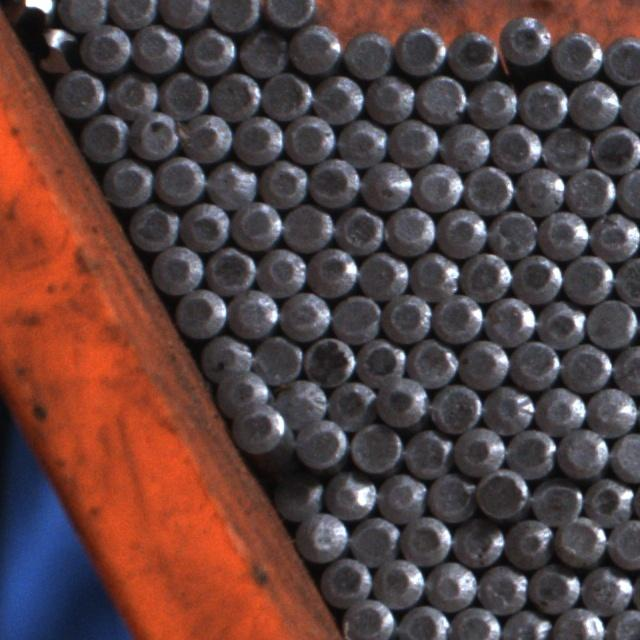tool: (230, 402, 286, 456), (498, 12, 550, 68), (295, 417, 348, 470), (429, 382, 482, 434), (551, 28, 603, 81), (348, 420, 401, 472), (554, 516, 606, 568), (289, 23, 341, 75), (476, 468, 528, 520), (174, 286, 226, 338), (447, 30, 498, 82), (556, 426, 608, 477), (452, 516, 504, 567), (526, 564, 579, 614), (215, 364, 269, 413), (505, 426, 556, 477), (297, 510, 348, 561), (400, 514, 450, 566), (259, 70, 311, 120), (452, 425, 504, 475), (270, 470, 322, 520), (343, 27, 392, 80), (569, 79, 619, 130), (79, 22, 130, 72), (180, 111, 230, 162), (436, 207, 486, 258), (373, 557, 423, 608), (127, 201, 178, 251), (53, 68, 103, 119), (394, 25, 444, 76), (376, 378, 427, 428), (582, 474, 633, 524), (324, 470, 376, 519), (150, 245, 202, 294), (201, 333, 253, 382), (468, 77, 518, 127), (518, 78, 568, 128), (463, 163, 513, 213), (426, 471, 476, 521), (384, 205, 434, 255), (154, 156, 204, 206), (334, 204, 384, 254), (580, 566, 630, 616), (314, 73, 364, 123), (484, 384, 534, 434), (458, 338, 508, 388), (407, 338, 457, 388), (252, 334, 302, 384), (409, 250, 459, 300), (77, 112, 127, 162), (102, 158, 152, 208), (277, 376, 327, 426), (184, 24, 233, 75), (477, 564, 526, 615), (402, 427, 451, 478), (132, 22, 181, 73), (130, 109, 179, 160), (320, 554, 369, 605), (416, 74, 466, 123), (562, 253, 611, 303), (349, 515, 398, 565), (180, 200, 229, 250), (231, 199, 280, 249), (332, 292, 381, 342), (488, 209, 538, 258), (229, 288, 278, 338), (426, 560, 476, 609), (361, 161, 411, 210), (310, 157, 360, 206), (510, 338, 559, 388), (586, 298, 636, 347), (285, 112, 334, 162), (233, 114, 283, 163), (280, 290, 329, 340), (204, 245, 254, 294), (326, 378, 375, 428), (357, 338, 407, 387), (238, 26, 286, 77), (512, 252, 560, 303), (383, 291, 431, 342), (531, 477, 582, 525), (561, 342, 610, 391), (590, 211, 639, 260), (282, 202, 331, 251), (588, 386, 637, 435), (365, 73, 414, 122), (433, 294, 482, 343), (389, 117, 439, 165), (565, 166, 615, 214), (542, 124, 590, 174), (158, 70, 208, 118), (461, 252, 509, 302), (505, 516, 553, 566), (592, 126, 640, 176), (535, 386, 585, 434), (106, 70, 156, 118), (358, 250, 408, 298), (310, 336, 360, 384), (491, 122, 539, 171), (210, 71, 259, 119), (413, 162, 462, 210), (257, 246, 305, 295), (516, 164, 564, 213), (539, 210, 588, 258), (206, 160, 255, 208), (485, 296, 534, 344), (308, 247, 356, 296), (260, 158, 308, 207), (378, 471, 426, 520), (537, 300, 586, 348), (442, 120, 490, 168), (340, 596, 392, 640), (339, 118, 387, 164), (395, 600, 449, 640), (34, 21, 80, 67), (602, 36, 640, 86), (450, 604, 500, 640), (606, 516, 640, 568), (552, 606, 604, 640), (500, 608, 551, 640), (210, 0, 258, 32), (58, 0, 106, 31), (611, 432, 640, 482), (159, 0, 208, 29), (613, 253, 640, 305), (264, 0, 316, 27), (612, 342, 640, 392), (108, 0, 156, 27), (605, 605, 640, 640), (618, 166, 640, 216), (16, 0, 59, 20)
